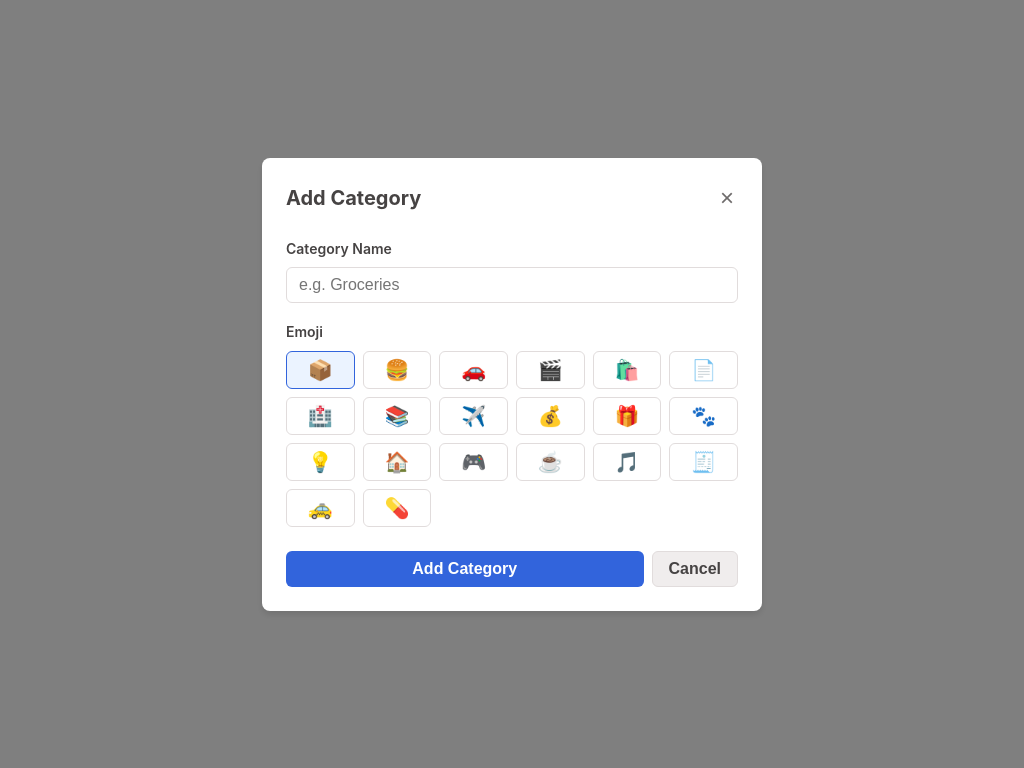
Test: AddCategoryModal › shows the backend error message and stays open when creation fails
Type "Groceries" into the field labelled "Category Name".
click(512, 284); type("Groceries")  # box [286, 266, 738, 302]
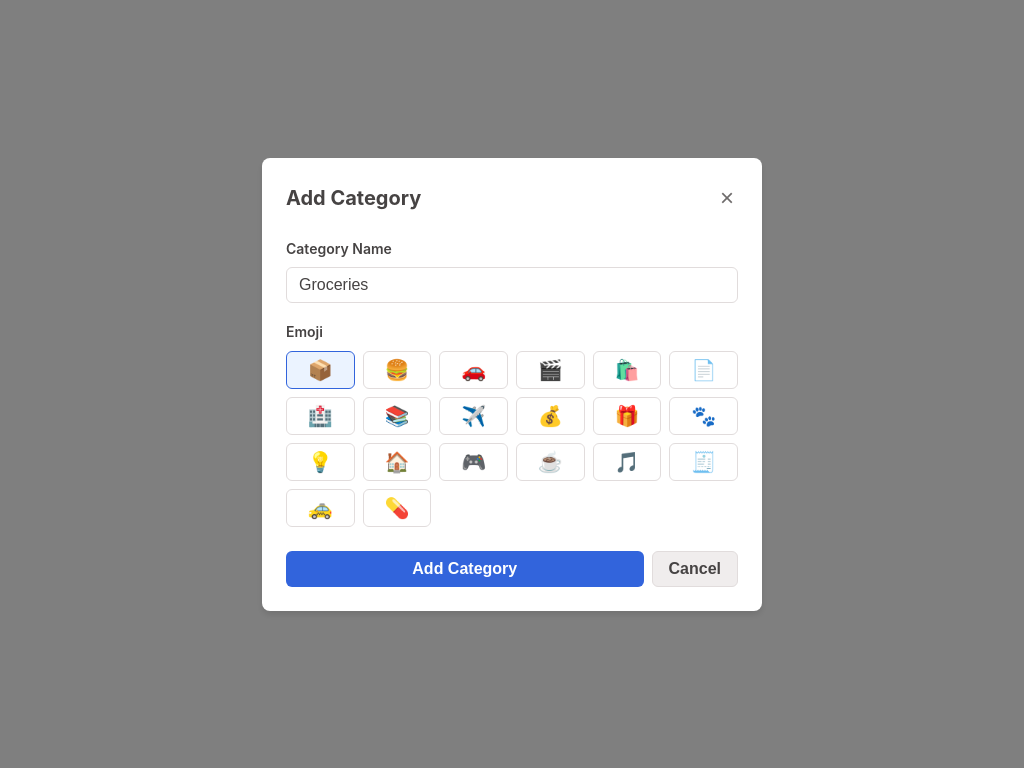
Click the button "Add Category".
click(465, 568)  # box [286, 550, 644, 586]
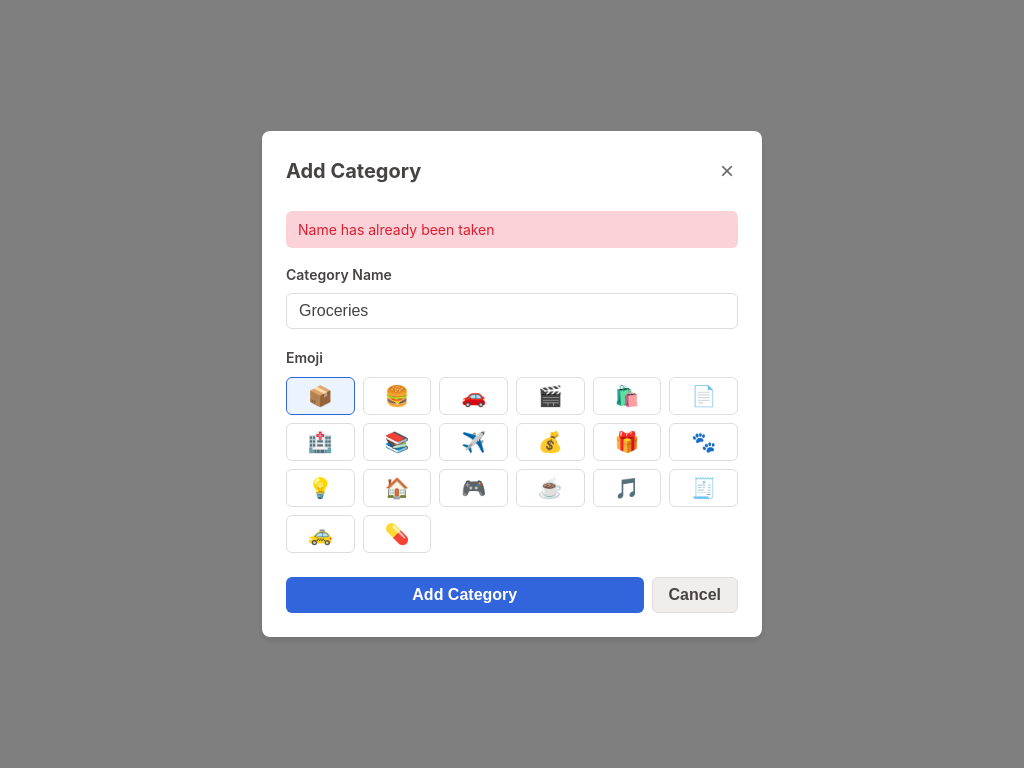
Expected: the text "Name has already been taken" is shown, [286, 211, 738, 248]
